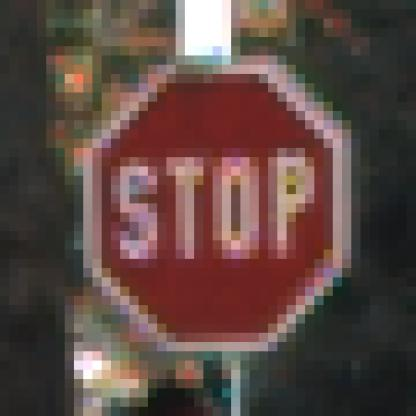stop: (78, 57, 357, 352)
